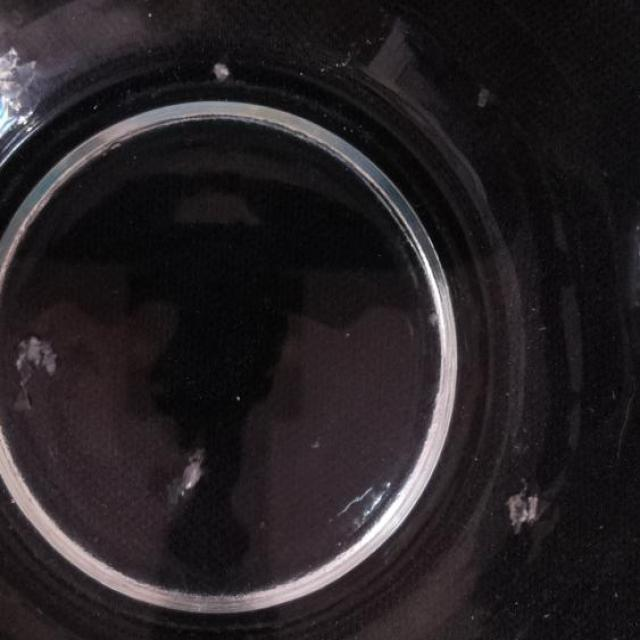fiber: (320, 476, 397, 552), (14, 331, 59, 413), (162, 449, 216, 517), (505, 485, 558, 532), (478, 81, 496, 119), (215, 65, 229, 81)
